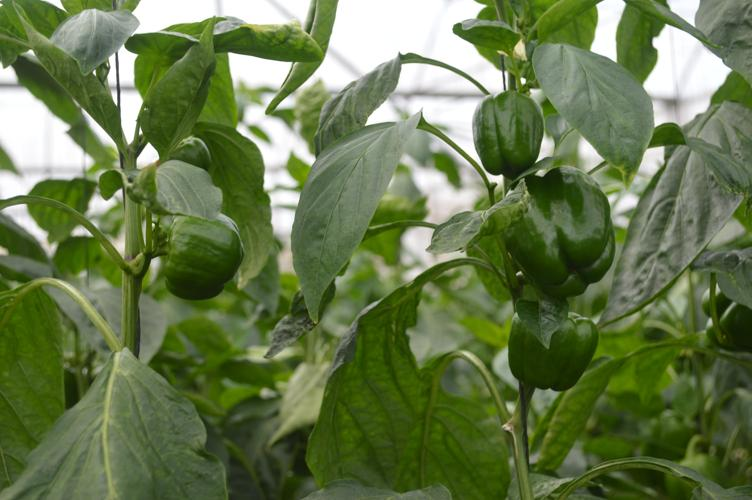BellPepper: (495, 165, 612, 294), (501, 310, 602, 391), (148, 211, 243, 297), (471, 92, 540, 172)
